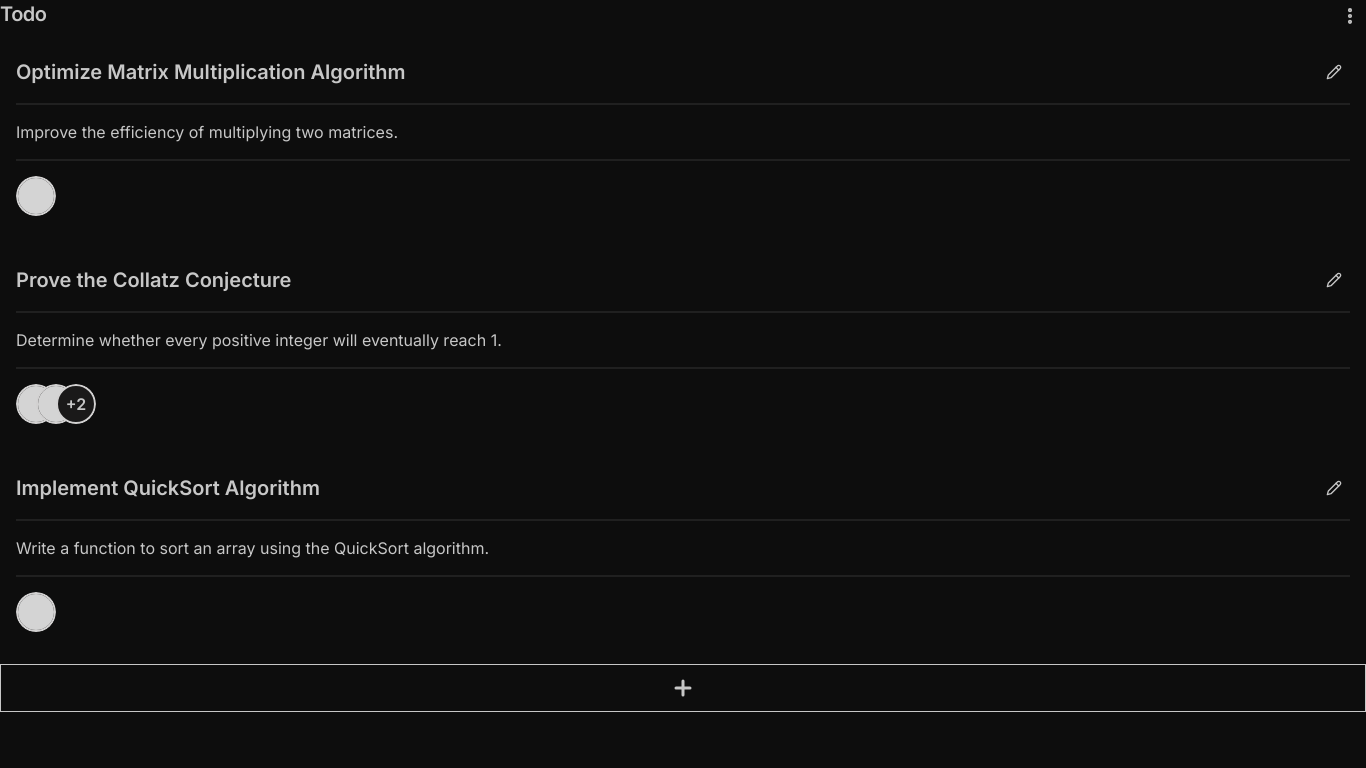
Test: TaskCardGroup › should be able to add new task via plus button
Check: the heading "todo" is shown, box [0, 0, 46, 28]
Click the button with test id "add-task-button-plus". click: [683, 688]
box: [0, 664, 1365, 712]
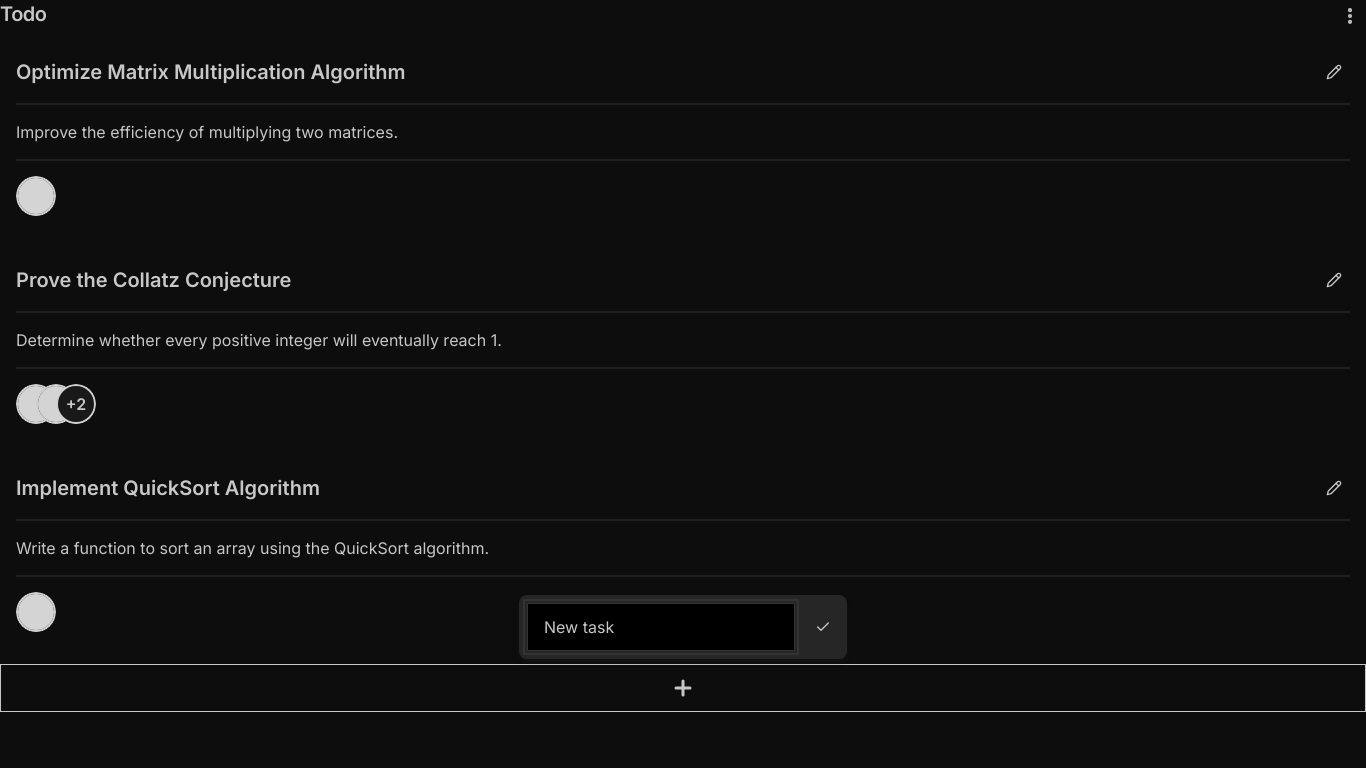
Check: the field with placeholder "Enter new task name" is shown, box [527, 603, 795, 651]
